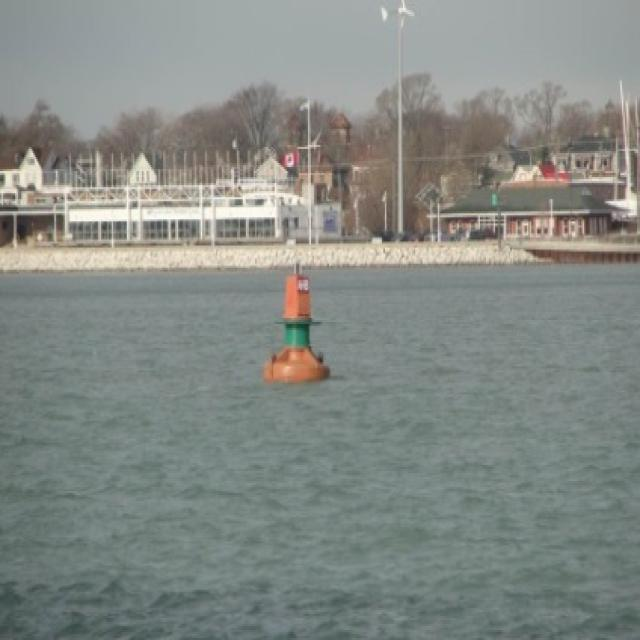2.1 preferred channel to starboard -Region A-: (249, 232, 351, 407)
